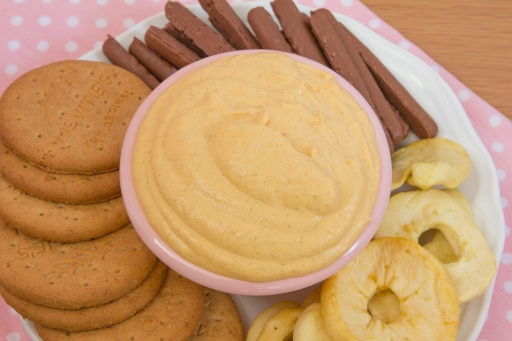background: (0, 0, 398, 182)
